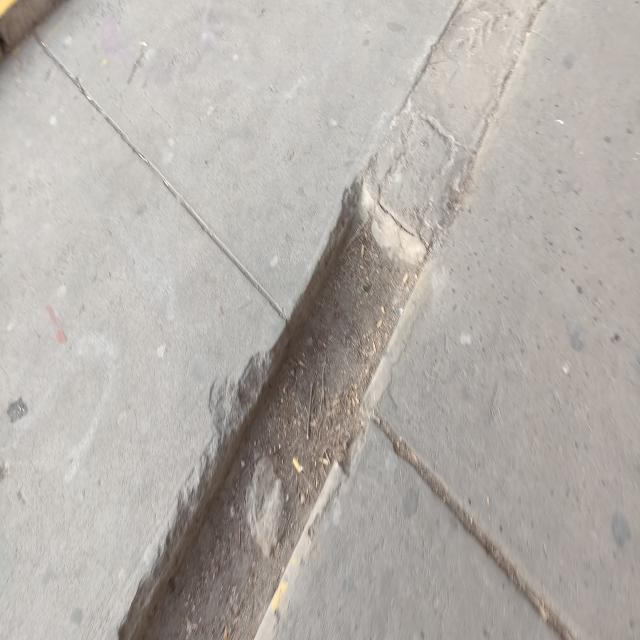hole: (116, 169, 430, 640)
